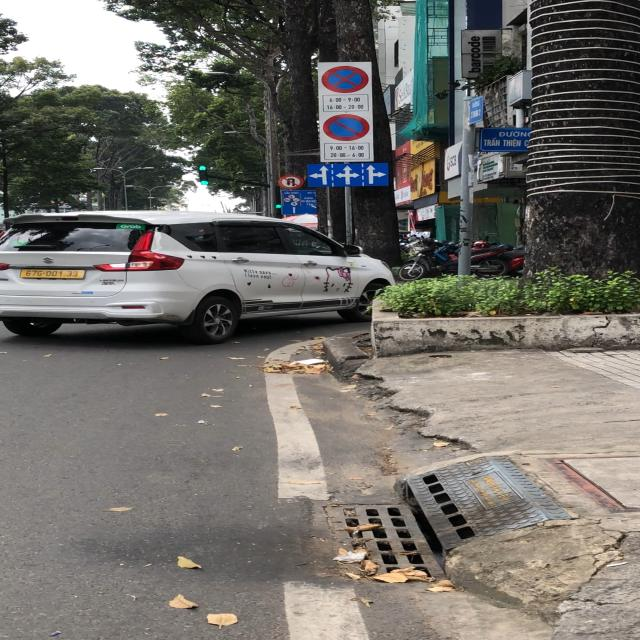Bien bao cam do xe: (320, 111, 372, 143)
Bien bao cam dung xe va do xe: (320, 65, 370, 93)
Bien bao cam quay dau xe: (276, 172, 304, 190)
